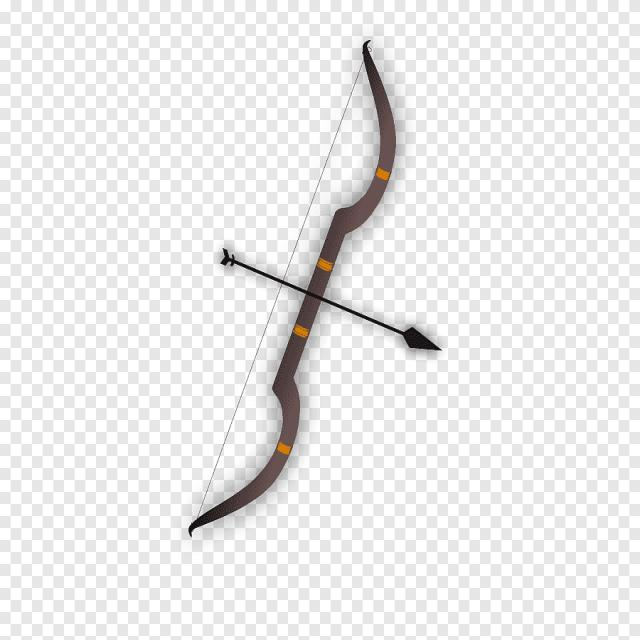X-Bow: (174, 31, 450, 547)
